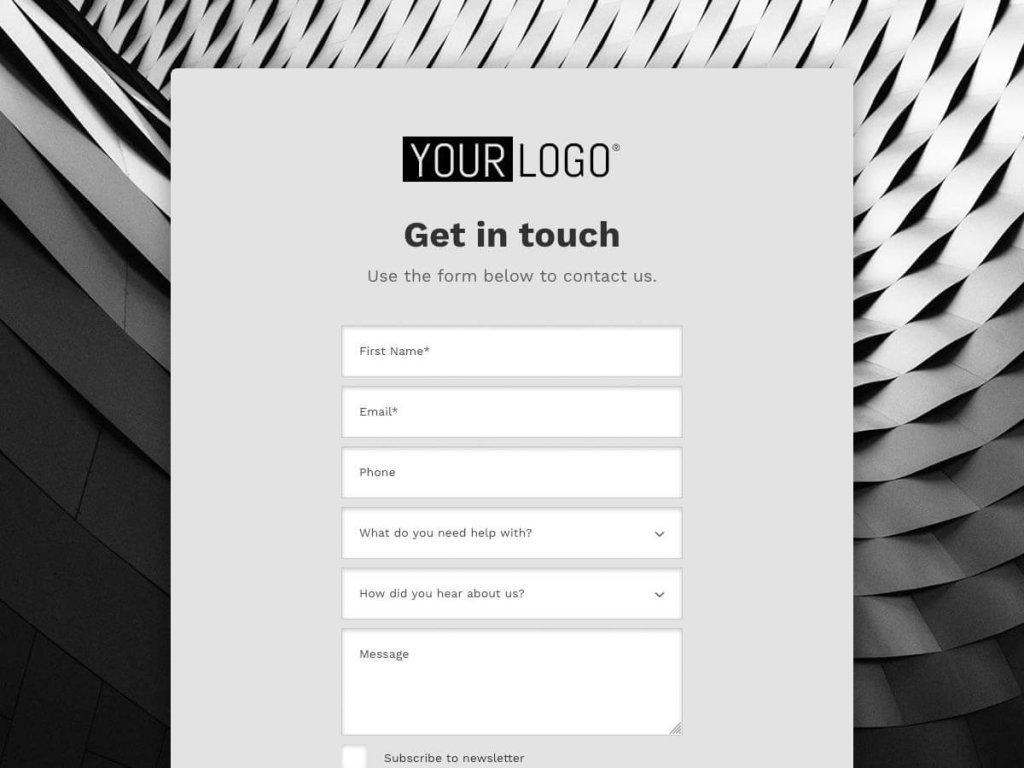checkbox: (340, 744, 369, 768)
dropdown: (341, 507, 684, 561), (341, 568, 684, 622)
input: (342, 387, 684, 440), (343, 326, 684, 378), (343, 447, 684, 499)
label: (380, 751, 532, 768)
